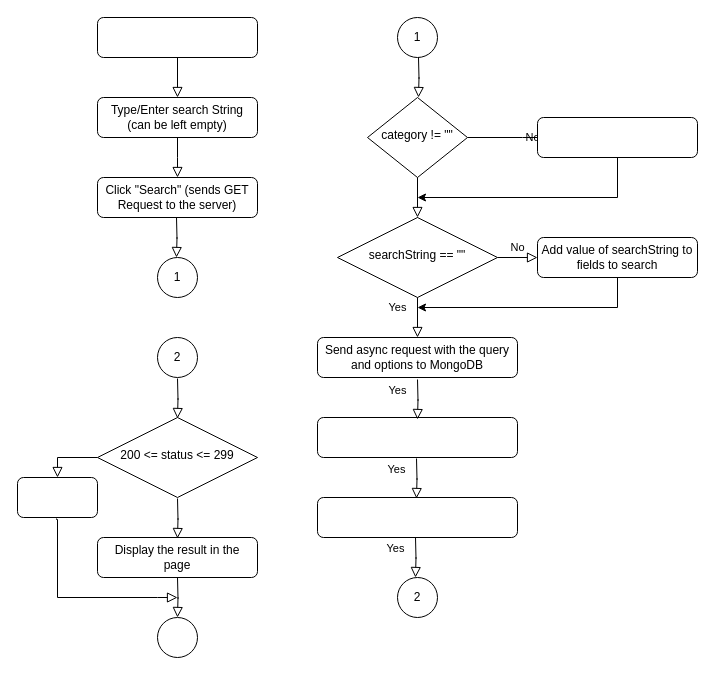
This 715x675 diagram has some shape labels left out. Each missing label, with the centre of its shape:
Add field "type" and value of category to the query: the point at 617,137
End: the point at 177,637
Error Handling: the point at 57,497
Receive query results and generate response: the point at 417,437
Select Categoy from DropDown (Default is "All"): the point at 177,37
Send response with status, message, and data to client: the point at 417,517
